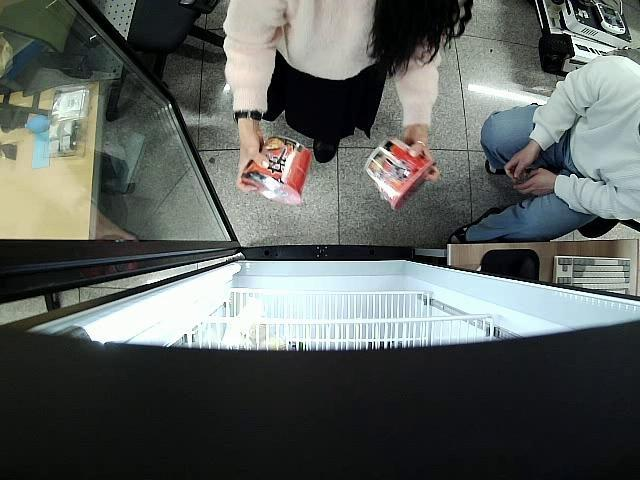01_ShinRamen_L: (366, 138, 438, 212), (242, 138, 312, 204)
